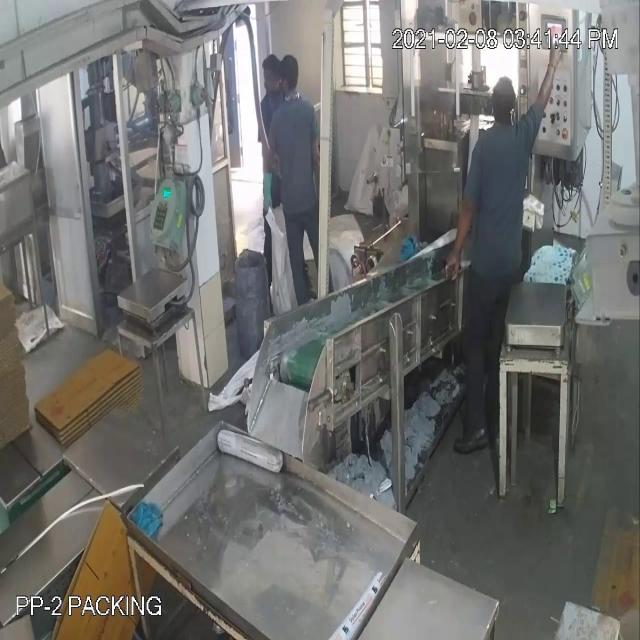No_Gloves: (36, 83, 553, 236)
